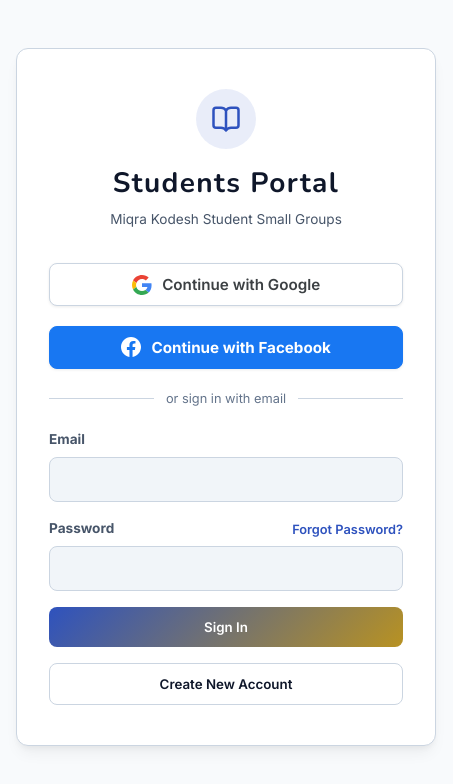
Test: Auth Component › rejects OAuth signup without a join code
Click the button "Create New Account": [226, 684] box [49,663,403,705]
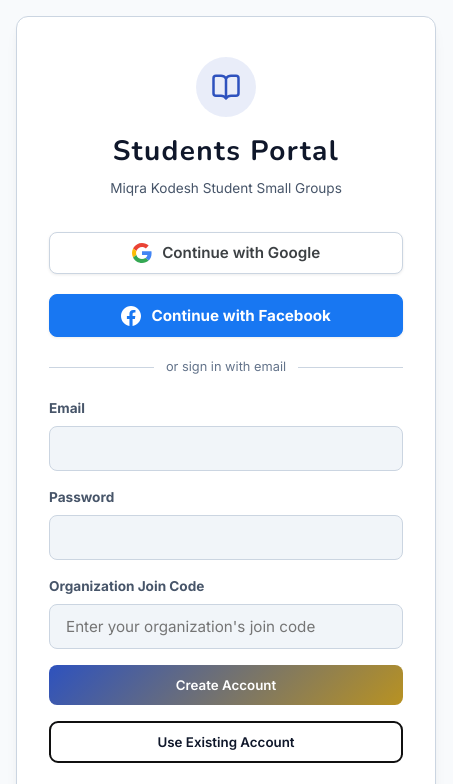
Click the button "Continue with Google": [226, 253] box [49,232,403,274]
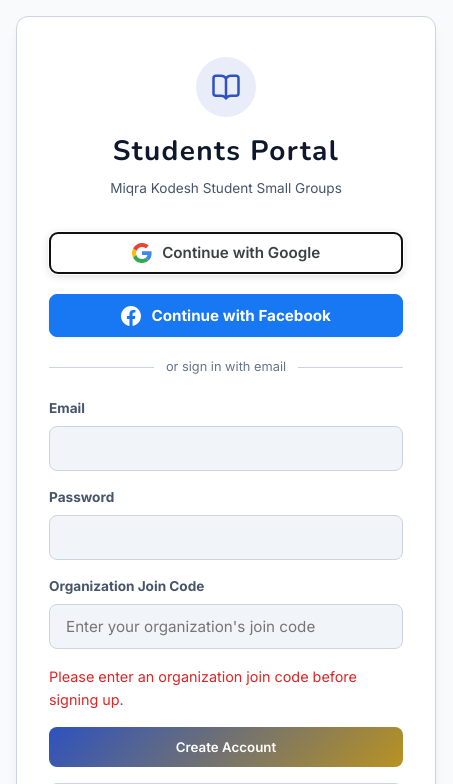
expect the text "Please enter an organization join code before signing up." is shown: met, box [49,665,403,711]
